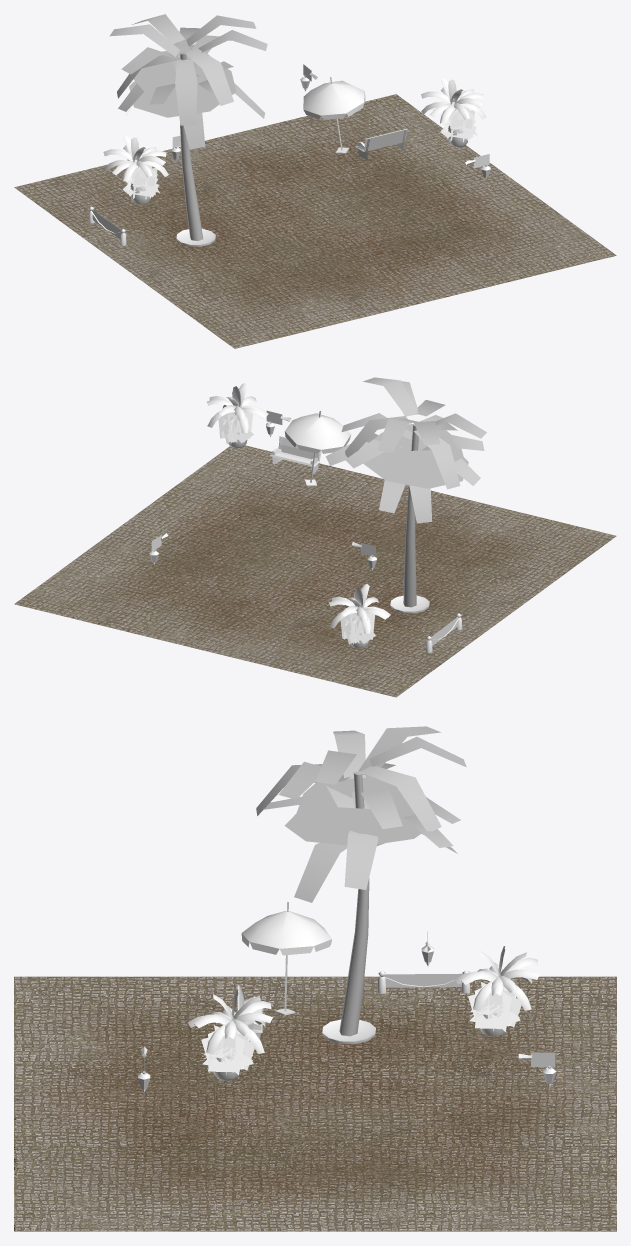
The model's file is propsonly_6.gltf.
3 renders of one model, top to bottom at view 1: azimuth 30°, elevation 25°; view 2: azimuth 150°, elevation 25°; view 3: azimuth 270°, elevation 25°, orthographic. The views are drawn at different scales.
Parts seen in each view (by area): view 1: ground.014, prop_tree1.006, prop_sunshade1.006, prop_treepot_tree1.005, prop_treepot_tree1.006, prop_bench1.011, prop_treepot_bush1.006, prop_treepot_bush1.005, prop_chain_fence1.012, prop_pot1.012; view 2: ground.014, prop_tree1.006, prop_sunshade1.006, prop_treepot_tree1.006, prop_treepot_tree1.005, prop_bench1.011, prop_treepot_bush1.005, prop_treepot_bush1.006, prop_pot1.012, prop_chain_fence1.012; view 3: ground.014, prop_tree1.006, prop_sunshade1.006, prop_treepot_tree1.005, prop_treepot_tree1.006, prop_treepot_bush1.006, prop_treepot_bush1.005, prop_chain_fence1.012, prop_pot1.012.
Boxes of the visible parts, <box> form: ground.014: <box>14,94,616,348</box>; prop_tree1.006: <box>110,14,267,240</box>; prop_sunshade1.006: <box>303,77,365,153</box>; prop_treepot_tree1.005: <box>421,78,486,124</box>; prop_treepot_tree1.006: <box>103,136,168,181</box>; prop_bench1.011: <box>355,129,407,159</box>; prop_treepot_bush1.006: <box>122,165,160,199</box>; prop_treepot_bush1.005: <box>440,107,477,142</box>; prop_chain_fence1.012: <box>88,206,126,245</box>; prop_pot1.012: <box>176,228,215,246</box>; ground.014: <box>14,445,616,697</box>; prop_tree1.006: <box>325,377,486,607</box>; prop_sunshade1.006: <box>284,411,351,486</box>; prop_treepot_tree1.006: <box>329,584,390,633</box>; prop_treepot_tree1.005: <box>207,383,268,433</box>; prop_bench1.011: <box>270,436,321,473</box>; prop_treepot_bush1.005: <box>218,412,253,443</box>; prop_treepot_bush1.006: <box>340,612,375,644</box>; prop_pot1.012: <box>390,595,429,613</box>; prop_chain_fence1.012: <box>426,613,462,652</box>; ground.014: <box>14,976,616,1231</box>; prop_tree1.006: <box>256,726,466,1036</box>; prop_sunshade1.006: <box>241,902,331,1015</box>; prop_treepot_tree1.005: <box>187,989,272,1053</box>; prop_treepot_tree1.006: <box>454,946,539,1010</box>; prop_treepot_bush1.006: <box>468,982,521,1031</box>; prop_treepot_bush1.005: <box>201,1025,254,1075</box>; prop_chain_fence1.012: <box>377,970,470,993</box>; prop_pot1.012: <box>322,1019,375,1043</box>.
Size of what is drawn, in the model's own units: 3.3 by 1.87 by 3.3.
